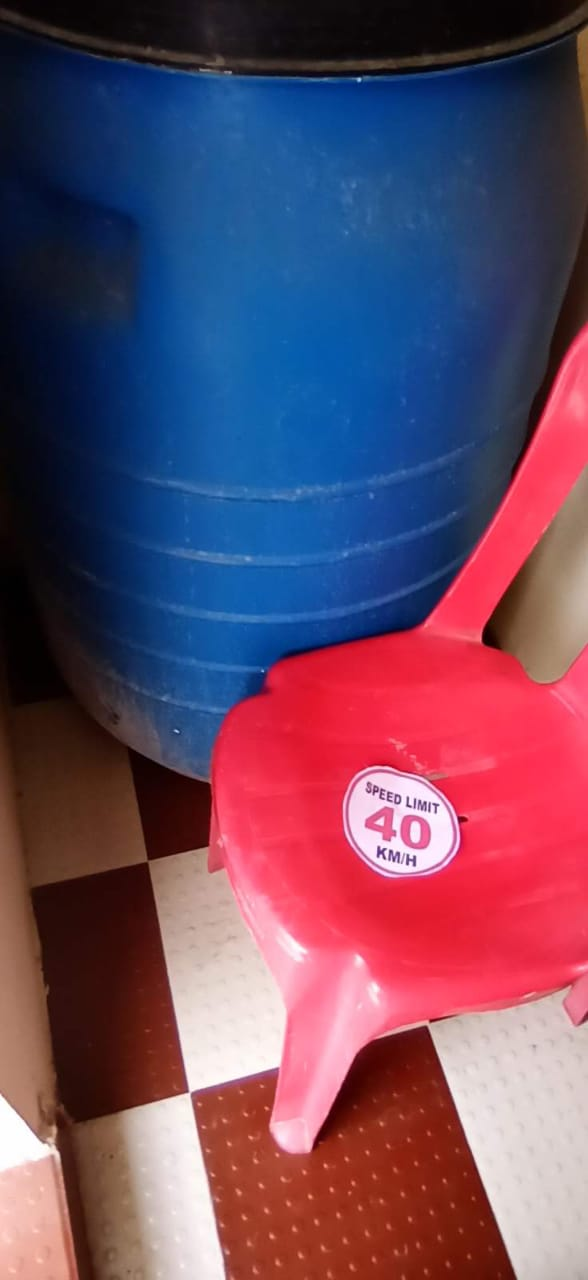SPEED LIMIT (40 KM/H): (308, 750, 489, 883)
